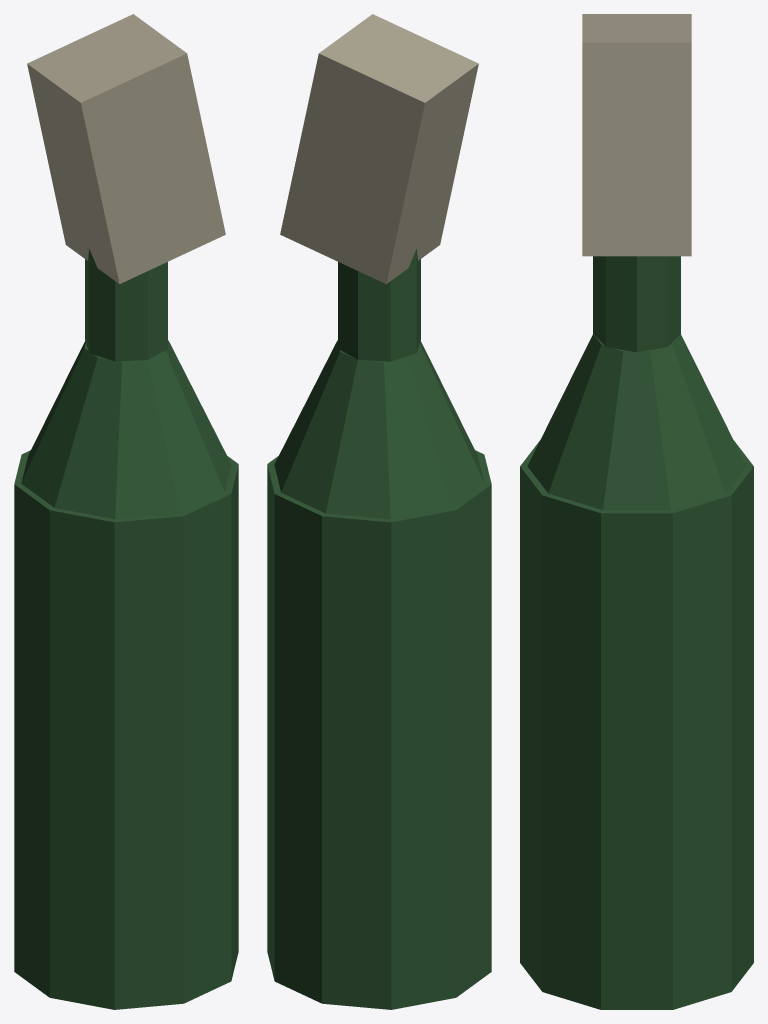
File: noise_bottle.glb
3 views of the same model, side by side, from view 1: azimuth 30°, elevation 25°; view 2: azimuth 150°, elevation 25°; view 3: azimuth 270°, elevation 25° (orthographic).
Visible parts, largest first — view 1: noise_bottle; view 2: noise_bottle; view 3: noise_bottle.
Part boxes in pixels (left/top/right/bottom): noise_bottle: left=14, top=14, right=238, bottom=1009; noise_bottle: left=267, top=14, right=491, bottom=1009; noise_bottle: left=520, top=14, right=753, bottom=1009.
Size of the model in its own units: 0.0609 by 0.283 by 0.064.
